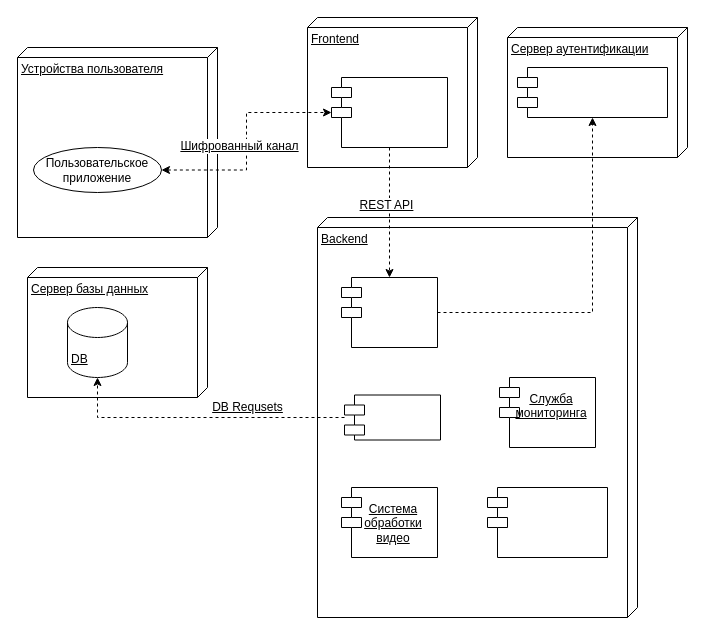
Some shapes in this 705 by 635 pixel diagram are drawn without their labels. The centre of each missing label's shape, as x and y in pixels:
"API - сервер" belongs at (389,312).
"web-сервер приложения" belongs at (389,112).
"Аутентификатор" belongs at (592,92).
"Служба безопасности" belongs at (547,522).
"СУБД" belongs at (392,417).
